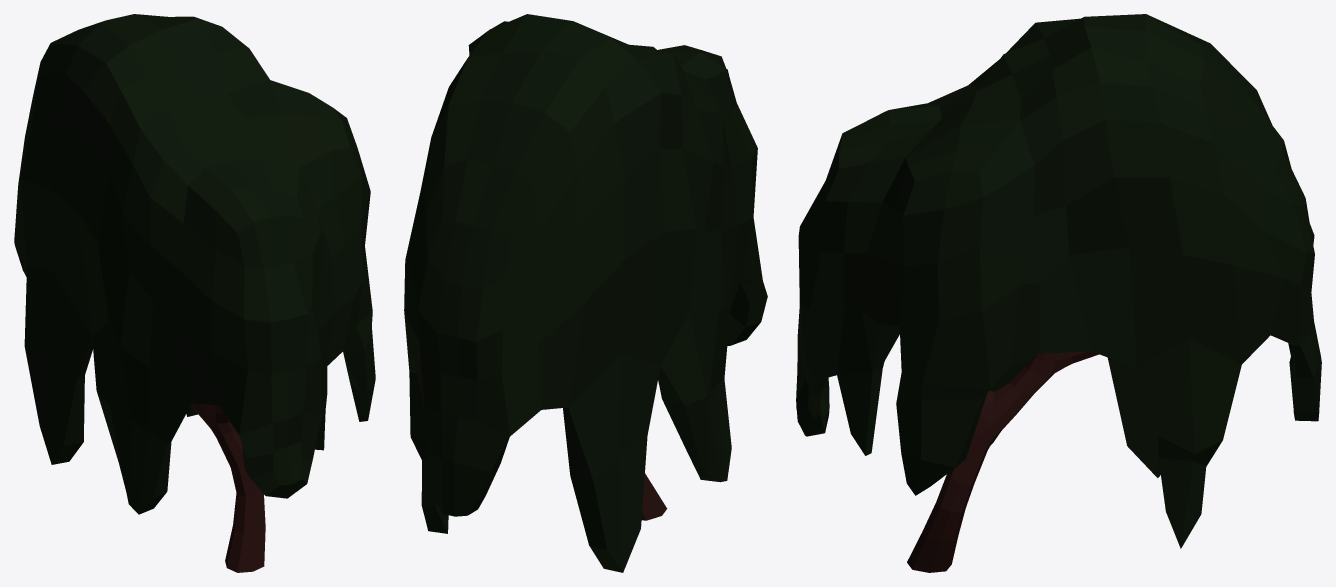
File: Willow_1.glb
3 renders of one model, left to right at view 1: azimuth 30°, elevation 25°; view 2: azimuth 150°, elevation 25°; view 3: azimuth 270°, elevation 25°, orthographic. The views are drawn at different scales.
Parts seen in each view (by area): view 1: Willow_1_Cube.010; view 2: Willow_1_Cube.010; view 3: Willow_1_Cube.010.
Part boxes in pixels (x1,y1,x2,y2): Willow_1_Cube.010: [14, 14, 375, 572]; Willow_1_Cube.010: [404, 14, 767, 572]; Willow_1_Cube.010: [796, 14, 1321, 572].
Size of the model in its own units: 1.45 by 2.85 by 2.55.
